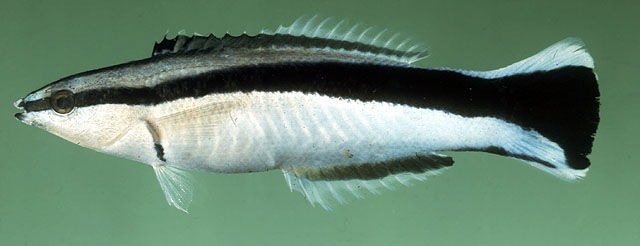fish: (12, 14, 602, 214)
